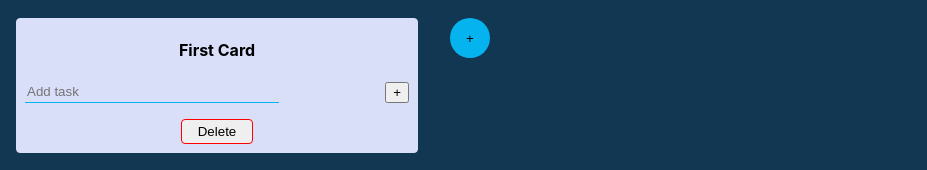
Test case: Integration test - actions › should delete card successfully
What coordinates should you click on to do the following:
click the button with test id "add-card"
I would click on:
 (470, 38)
Its box is [450, 18, 490, 58].
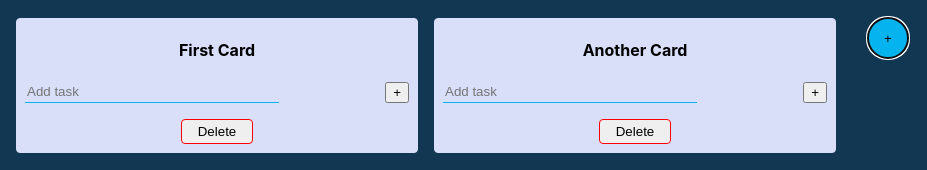
What coordinates should you click on to do the following:
click the button with test id "delete-card" below "Another Card"
I would click on:
 (635, 131)
Its box is [599, 118, 671, 144].
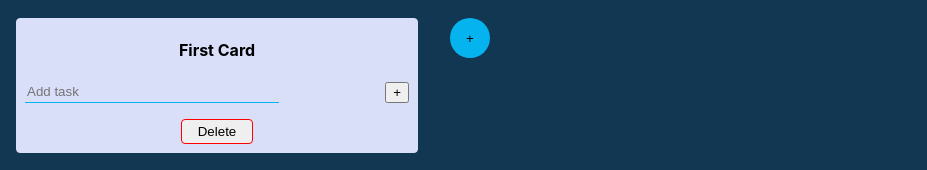
Now the heading "Another Card" is gone
